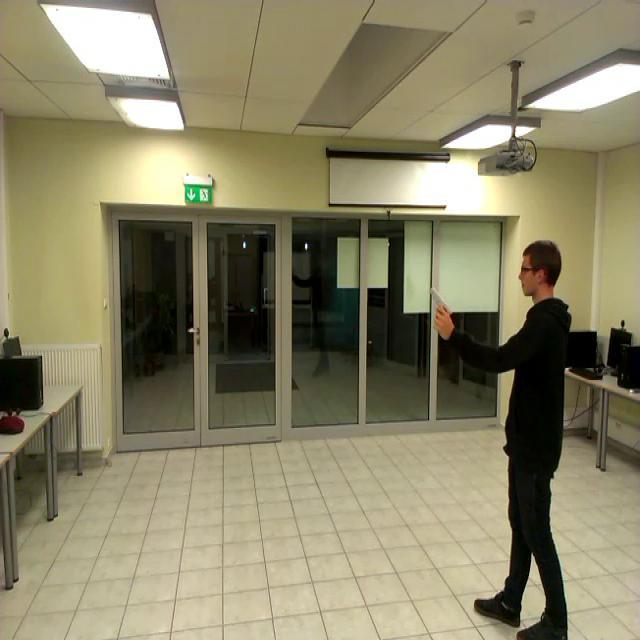Gun: (431, 286, 454, 330)
